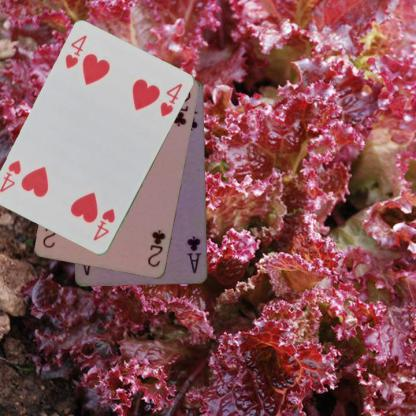2c: (145, 227, 167, 269)
4h: (62, 33, 88, 70), (90, 206, 116, 242)
Ac: (185, 234, 203, 275)
